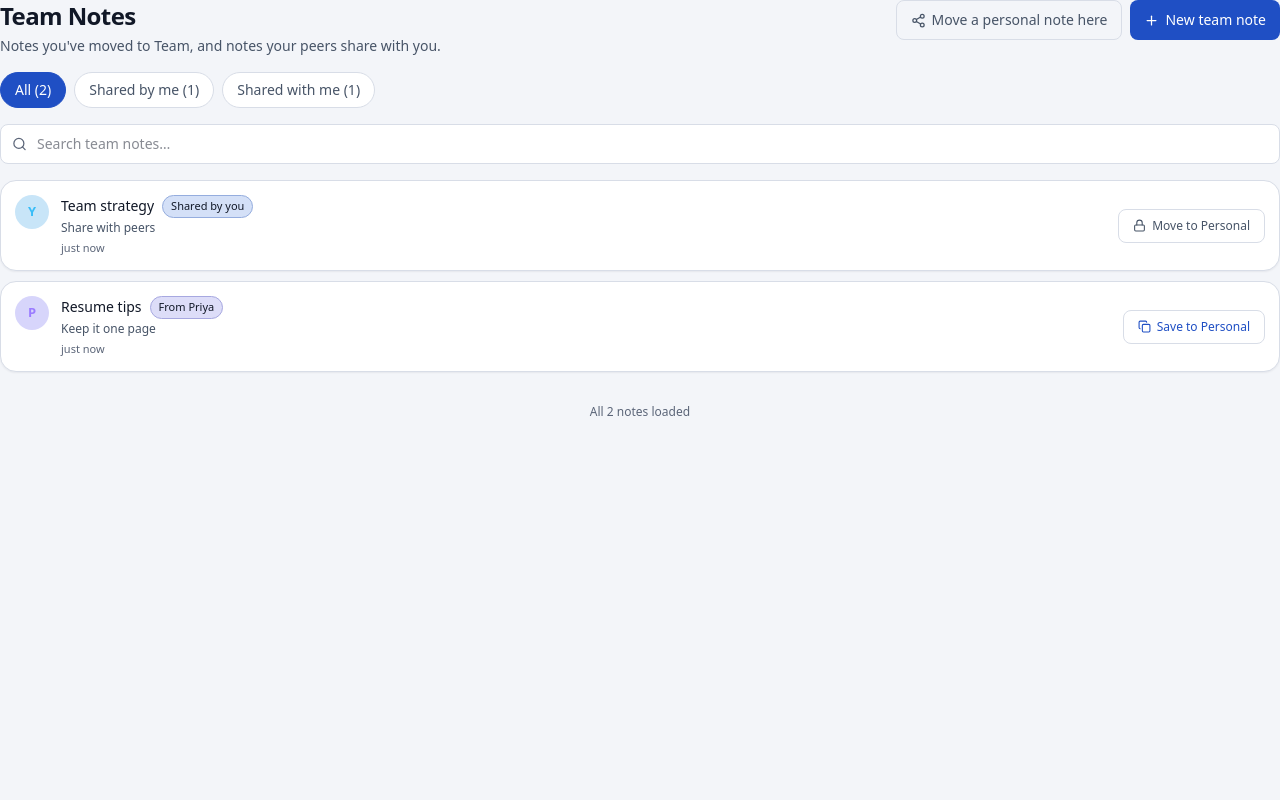
Test: Team notes › moves one of my shared notes back to Personal only after confirming
Click the button with aria-label "Move Team strategy to Personal": (1192, 226) [1118, 208, 1265, 242]
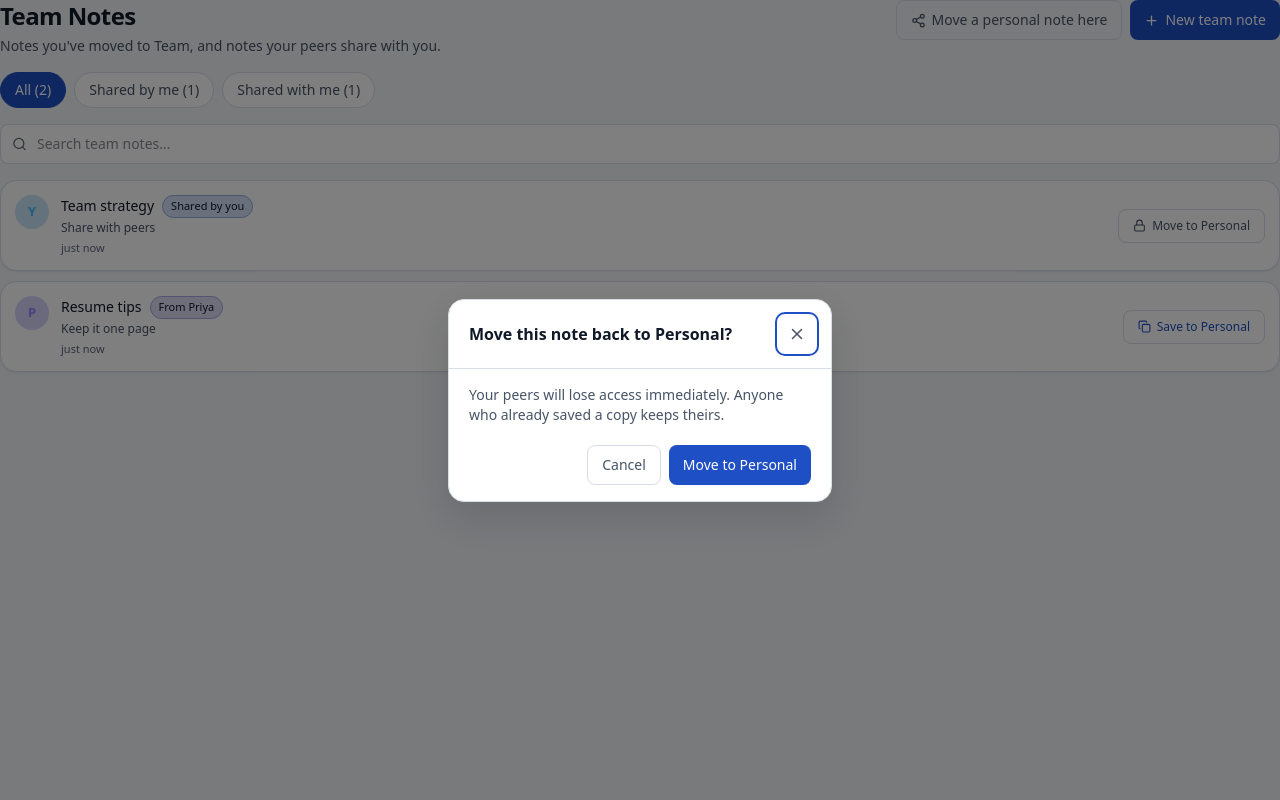
Click the button "Move to Personal": (740, 464) [669, 444, 811, 484]
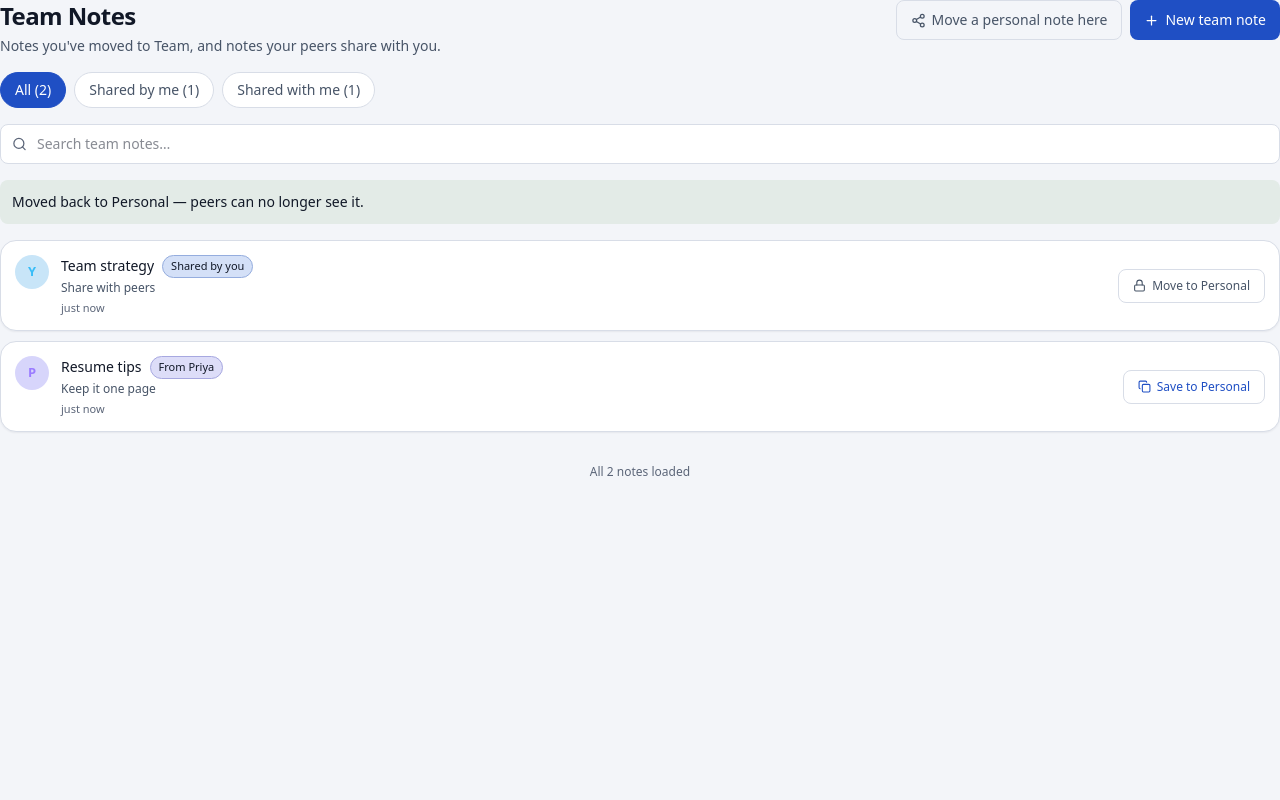
Expected: the message shows "Moved back to Personal", [12, 192, 364, 211]
